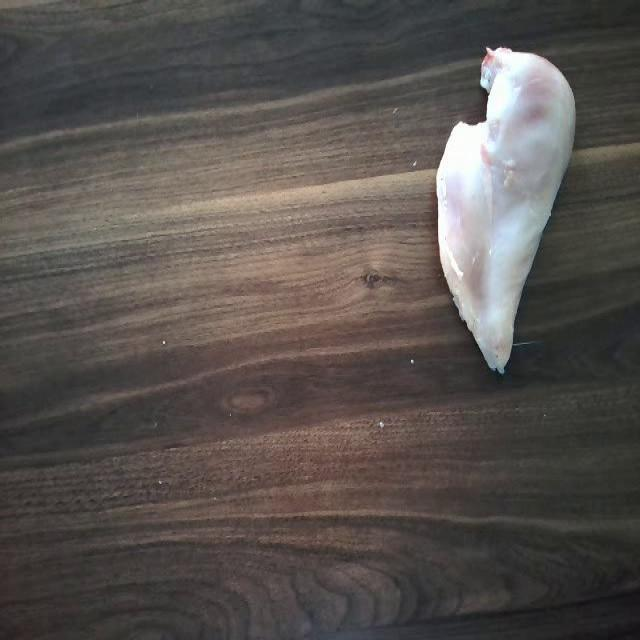breast: (438, 40, 574, 382)
